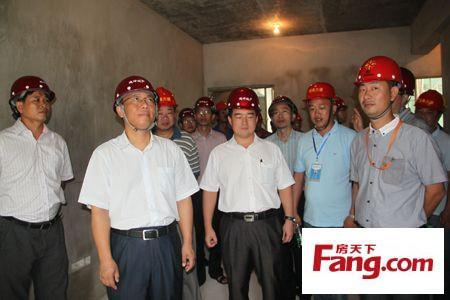helmet: (354, 56, 406, 119), (111, 71, 159, 134), (9, 72, 56, 125), (223, 86, 263, 135), (302, 79, 339, 128), (413, 89, 446, 127), (267, 92, 297, 132), (154, 86, 180, 131), (394, 64, 416, 111), (193, 94, 216, 129), (178, 105, 197, 138)
